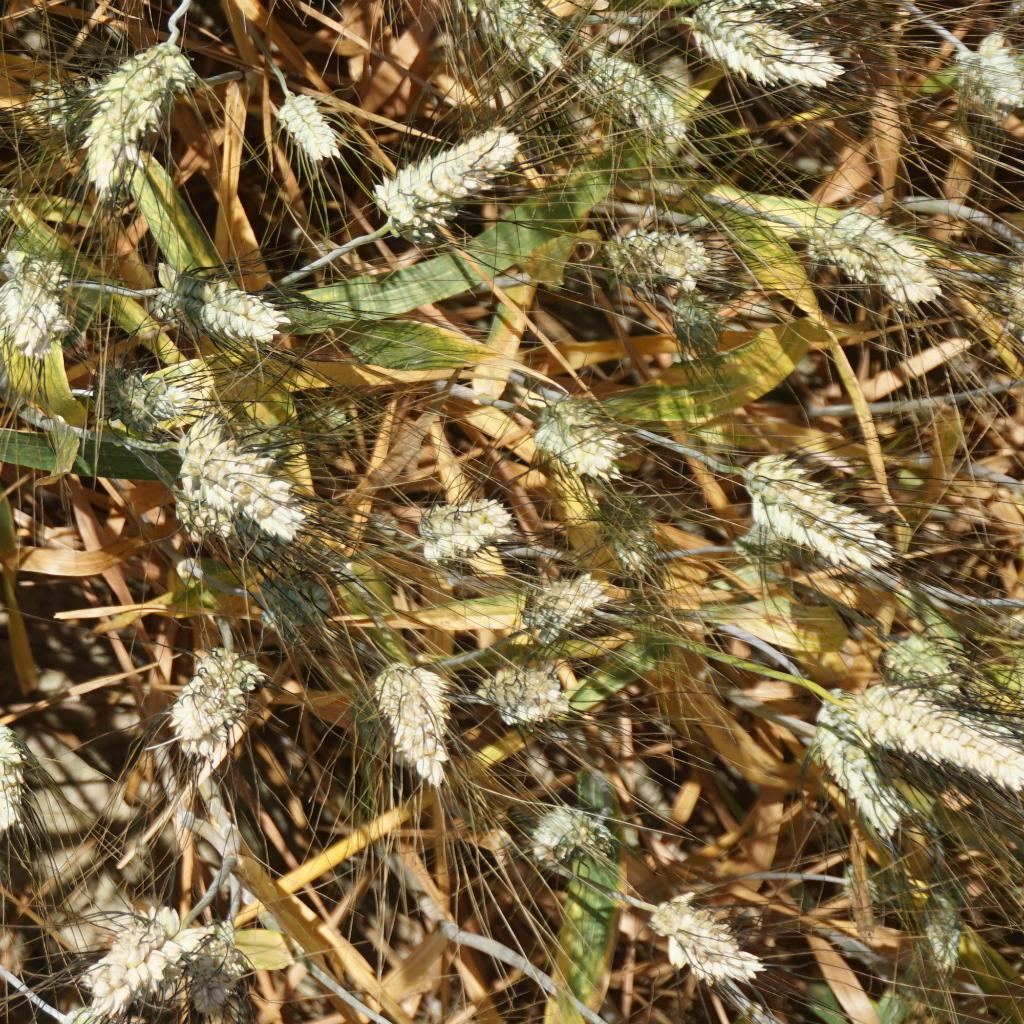0-0: (363, 118, 525, 253), (849, 687, 1024, 793), (94, 31, 205, 197), (156, 425, 296, 536), (671, 11, 836, 92), (813, 210, 942, 311), (146, 258, 280, 355), (368, 652, 458, 796), (736, 450, 886, 529), (74, 899, 172, 1011), (806, 717, 904, 827), (166, 647, 268, 751), (442, 0, 566, 83), (729, 500, 863, 574), (649, 894, 757, 978), (580, 52, 685, 138), (421, 498, 538, 567), (604, 227, 708, 303), (250, 564, 344, 644), (529, 400, 617, 480), (949, 26, 1024, 118), (519, 566, 605, 640), (273, 84, 346, 169), (520, 801, 615, 865), (907, 870, 967, 969), (92, 359, 184, 423), (180, 926, 251, 1007), (165, 471, 231, 547), (0, 274, 65, 350), (660, 296, 732, 362), (485, 669, 574, 722), (883, 634, 958, 695), (975, 249, 1024, 340), (0, 706, 34, 833), (20, 71, 89, 131), (840, 867, 899, 915), (700, 0, 828, 20), (608, 517, 655, 571), (293, 401, 351, 440), (0, 180, 19, 246)
